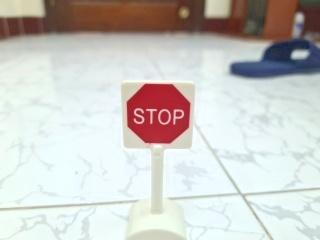stop: (111, 73, 203, 157)
